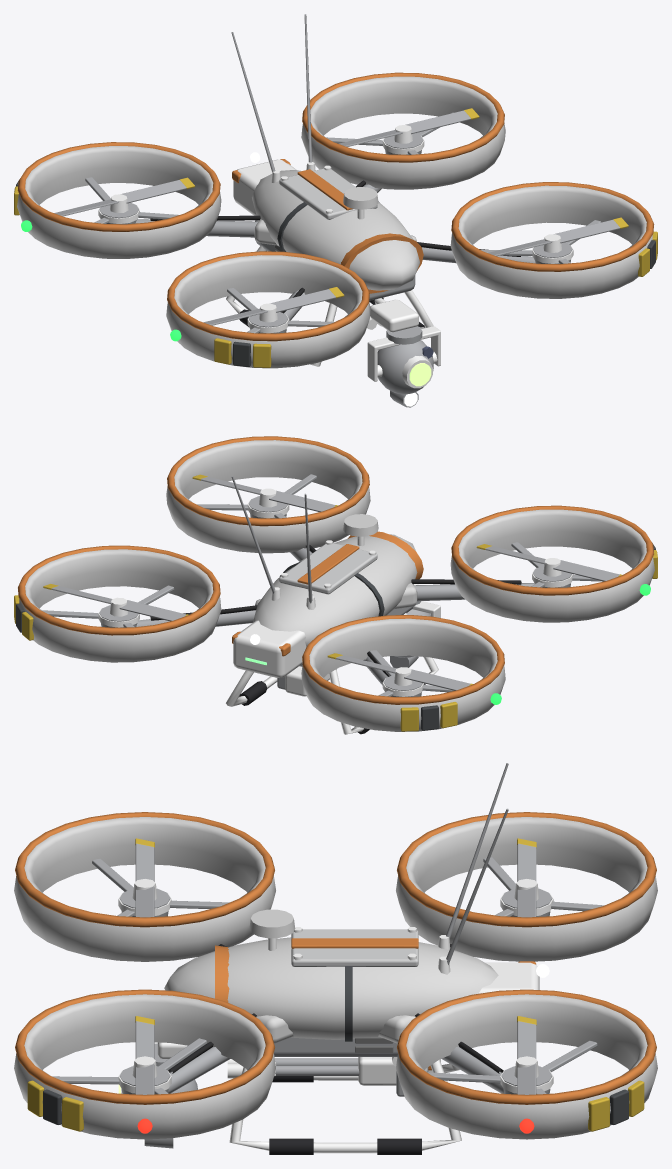
Rendered from gull.glb.
The picture shows the model from 3 angles, top to bottom: view 1: azimuth 30°, elevation 25°; view 2: azimuth 150°, elevation 25°; view 3: azimuth 270°, elevation 25°; orthographic projection. The views are drawn at different scales.
Parts seen in each view (by area): view 1: shell, metal (×7); view 2: shell, metal (×6); view 3: shell, metal (×6).
Part boxes in pixels (x1,y1,x2,y2): shell: (14, 72, 657, 368); metal (×7): (54, 14, 620, 407); shell: (14, 436, 657, 734); metal (×6): (42, 474, 619, 734); shell: (14, 812, 657, 1154); metal (×6): (52, 763, 604, 1153).
Size of the model in its own units: 1.11 by 0.6266 by 1.01.
